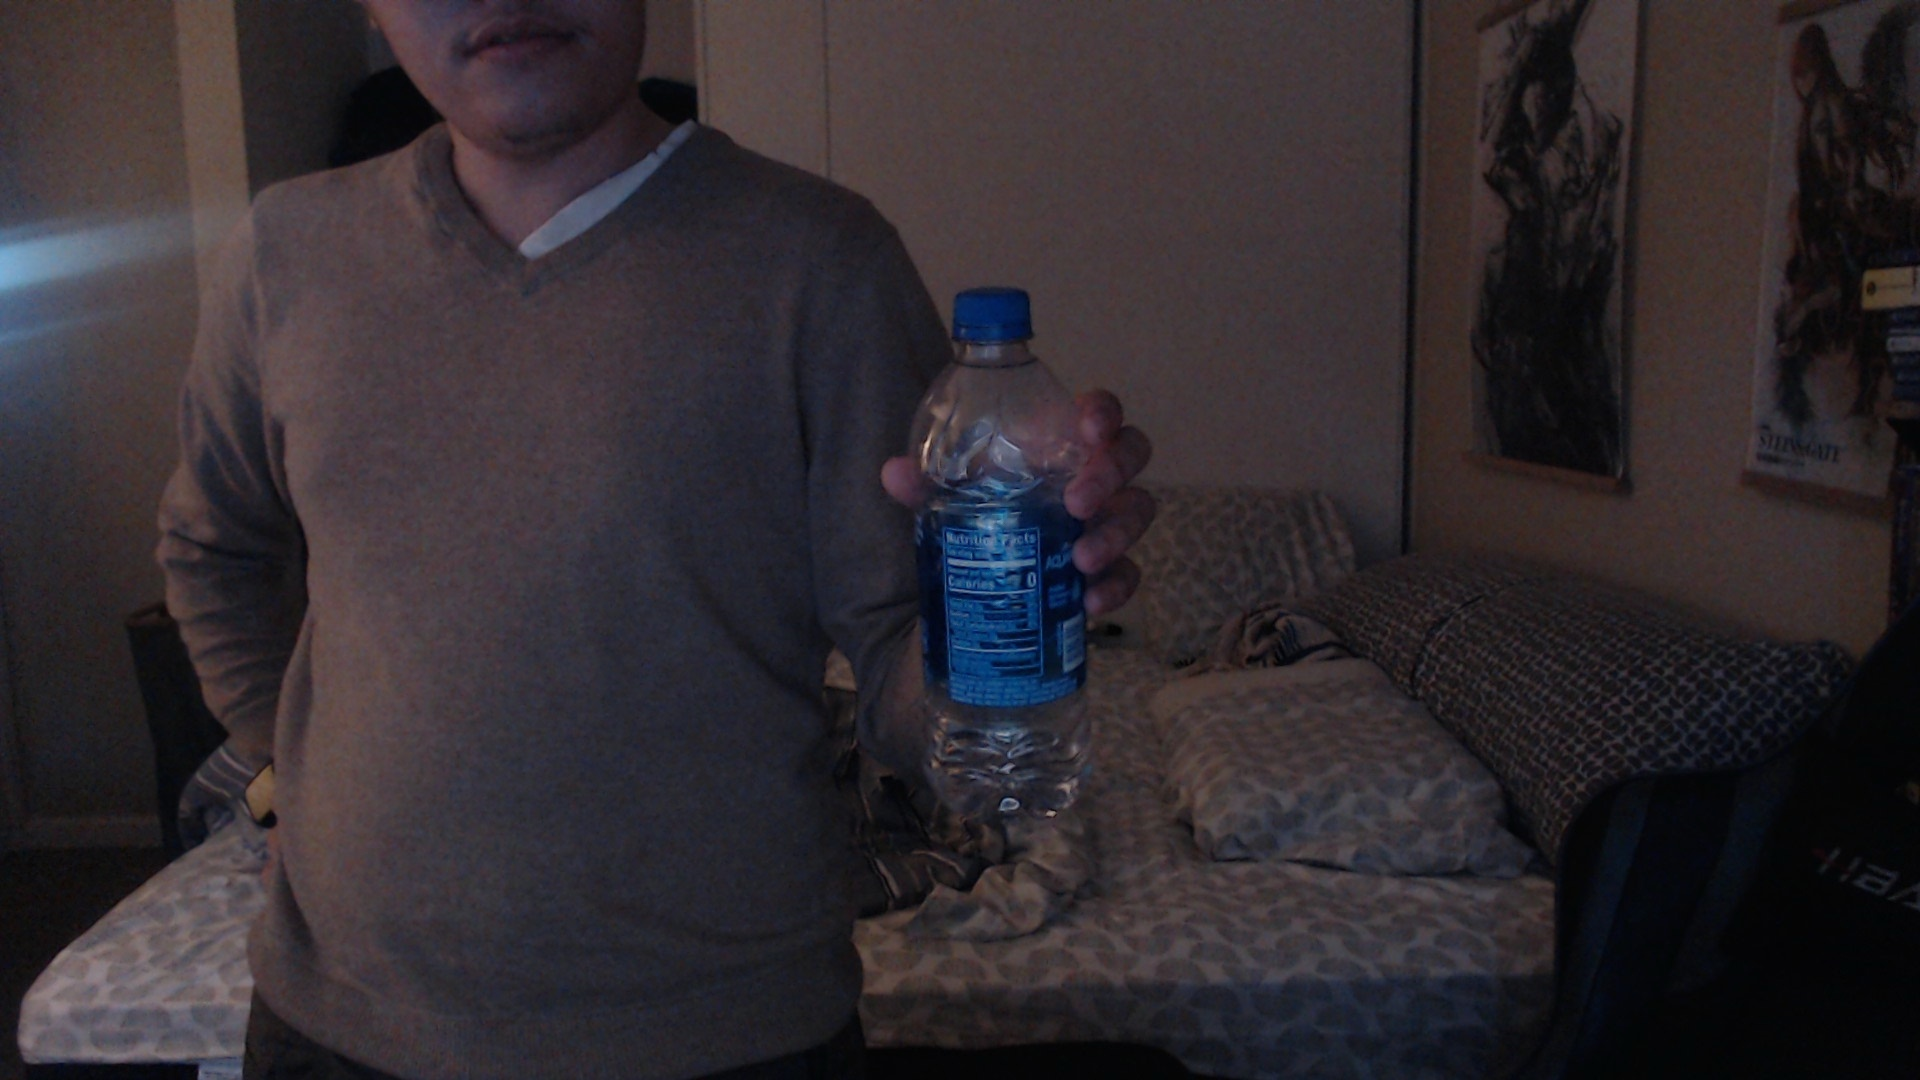bottle: (905, 281, 1096, 815)
